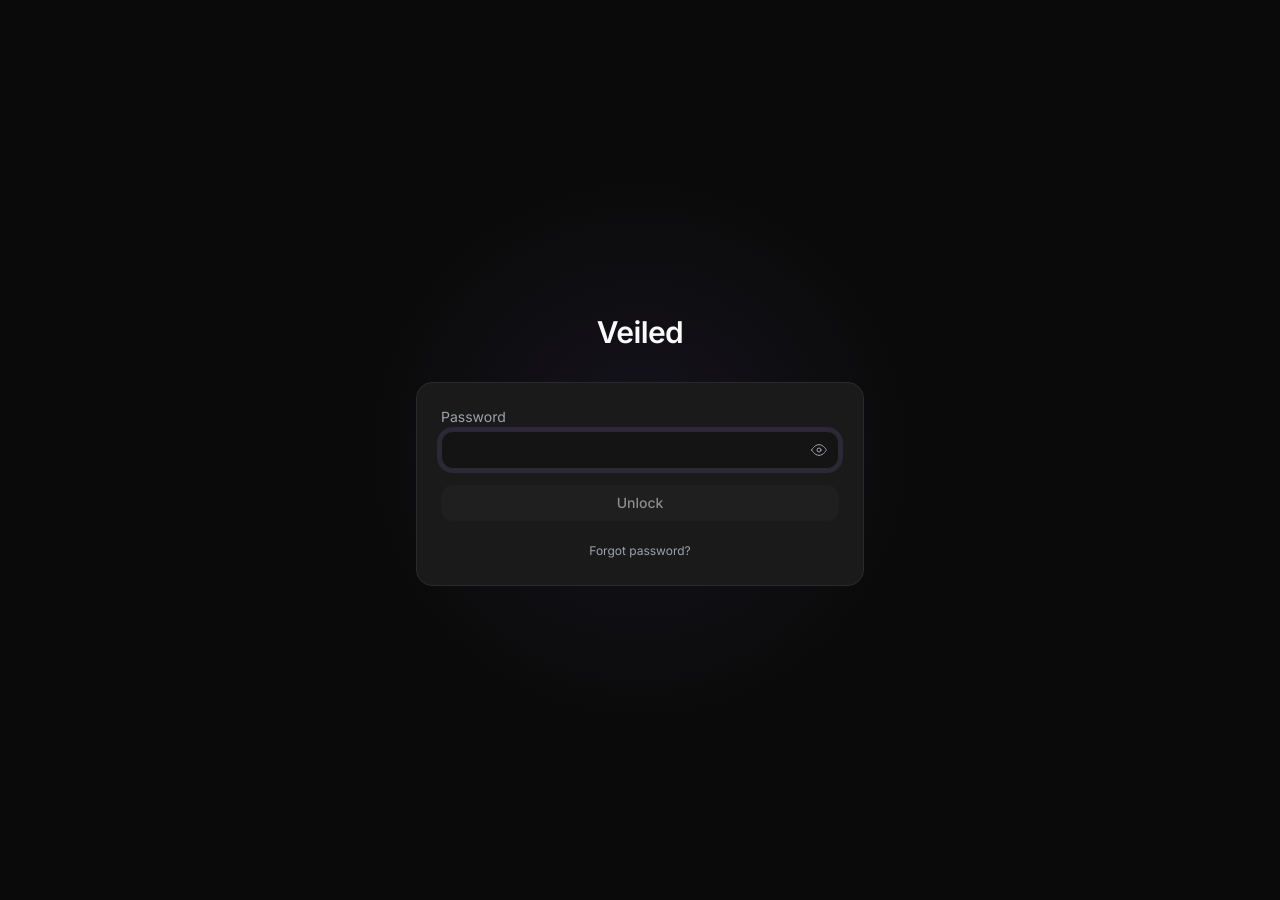
Scenario: WalletUnlock › delete button is disabled until backup checkbox is checked
Step 1. Click the button "Forgot password?" → x=640, y=551, box x1=589 y1=543 x2=691 y2=559
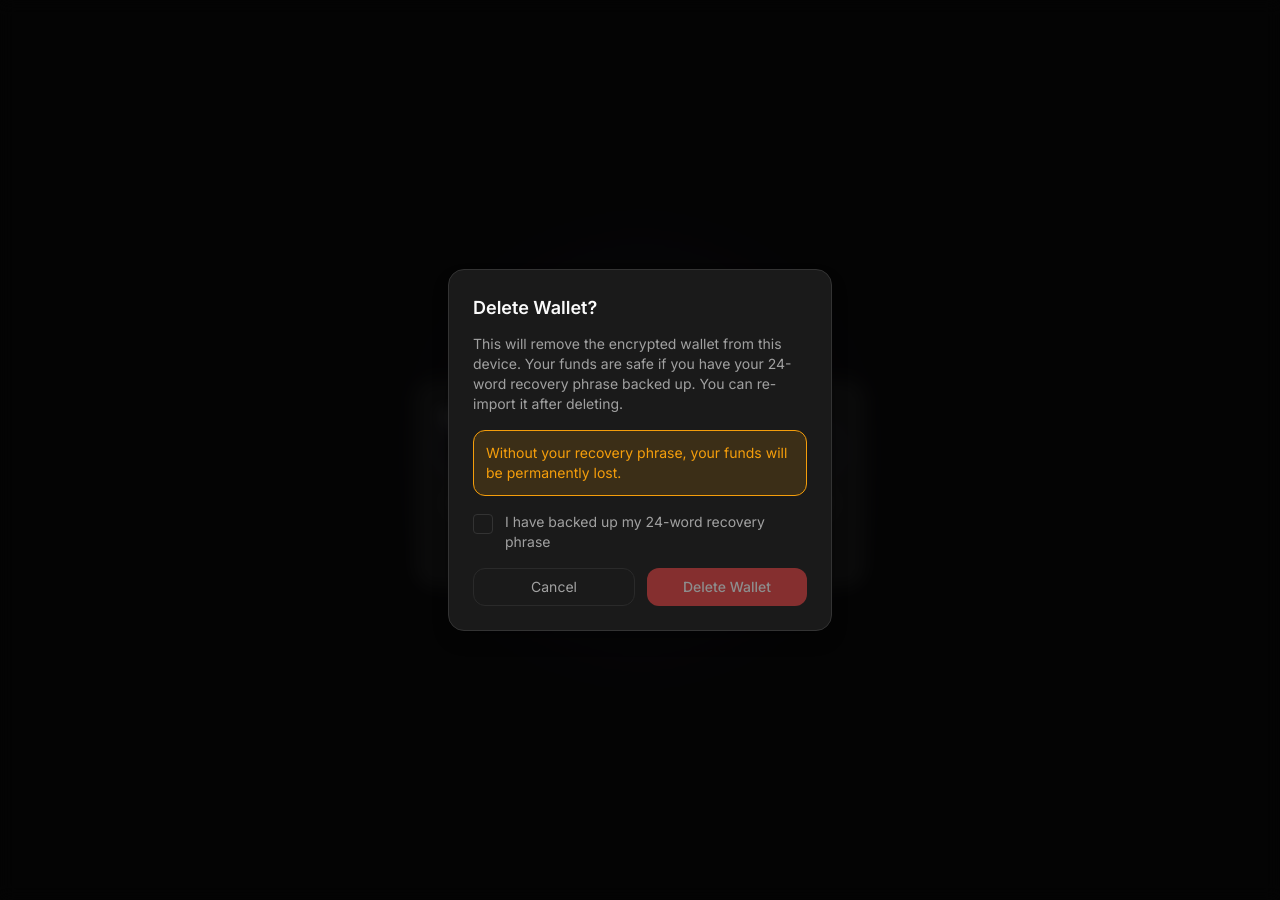
Expected: the button "Delete Wallet" is disabled, x1=647 y1=568 x2=807 y2=606
// Check the acknowledgment checkbox
Step 2. Click the checkbox → x=640, y=532, box x1=473 y1=512 x2=807 y2=552
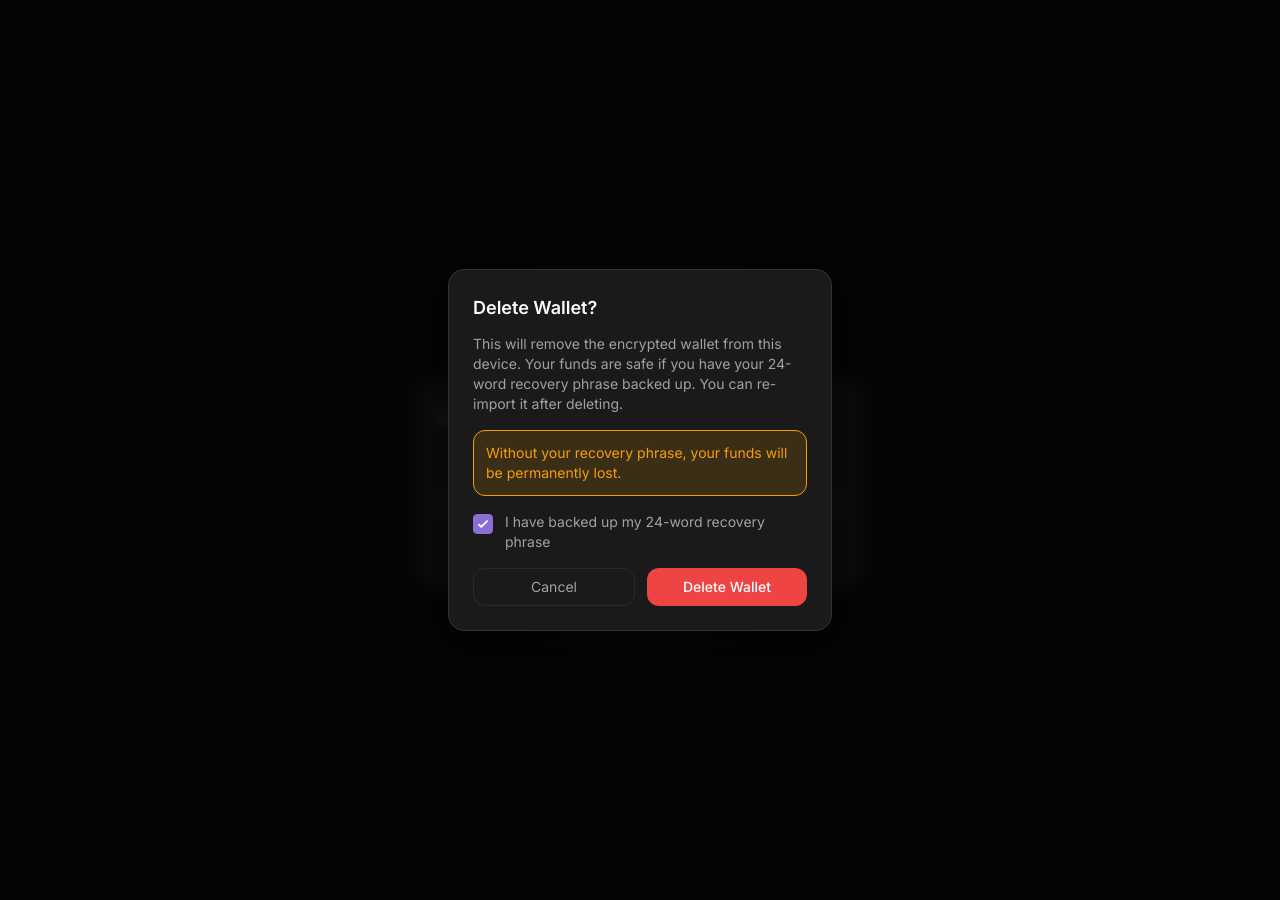
Expected: the button "Delete Wallet" is enabled, x1=647 y1=568 x2=807 y2=606
